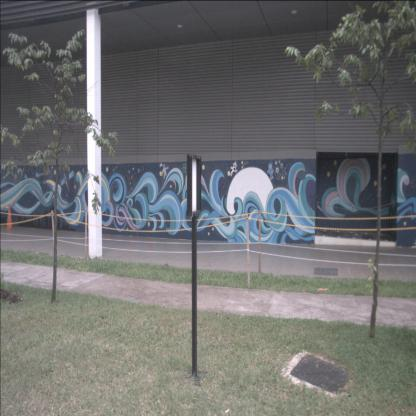movable_object-trafficcone: (5, 205, 16, 230)
